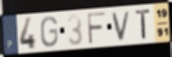3: (67, 12, 85, 47)
4: (18, 16, 38, 51)
F: (86, 11, 107, 46)
G: (39, 16, 59, 49)
T: (135, 8, 152, 41)
V: (111, 9, 132, 42)
